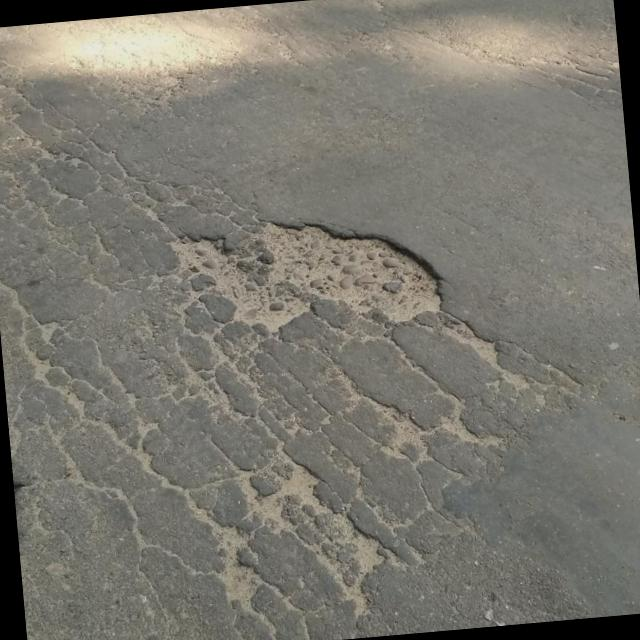Lubang: (174, 224, 439, 330)
